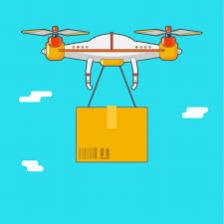drone: (14, 17, 201, 96)
